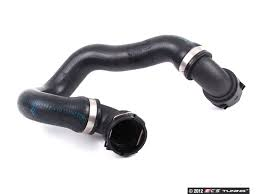radiator_hose: (18, 34, 242, 152)
